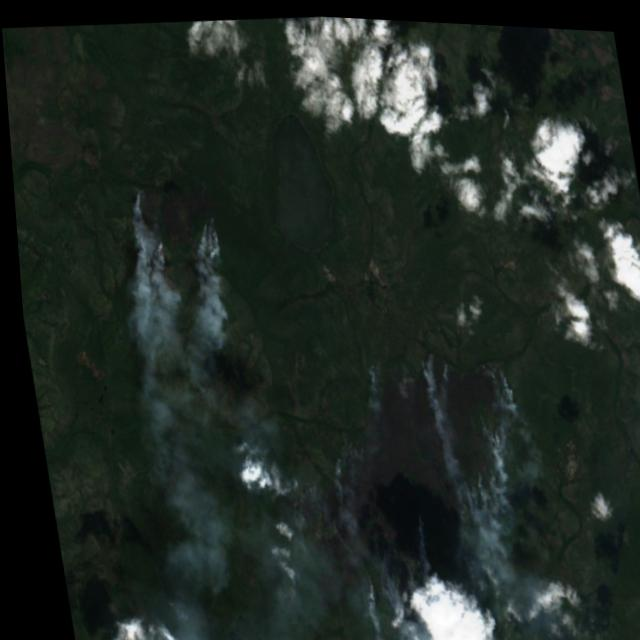fire: (289, 330, 545, 587), (115, 169, 236, 282)
